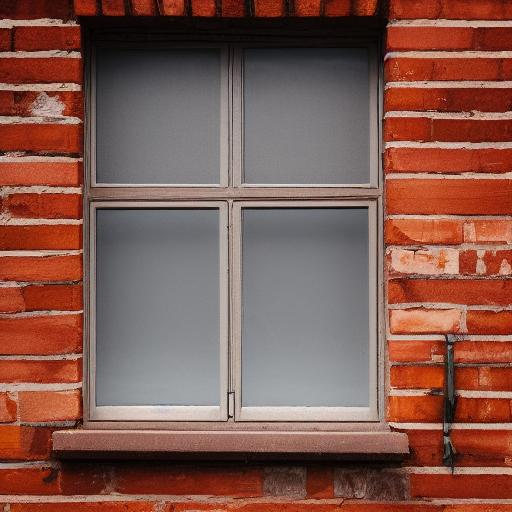Window: (50, 12, 416, 460)
